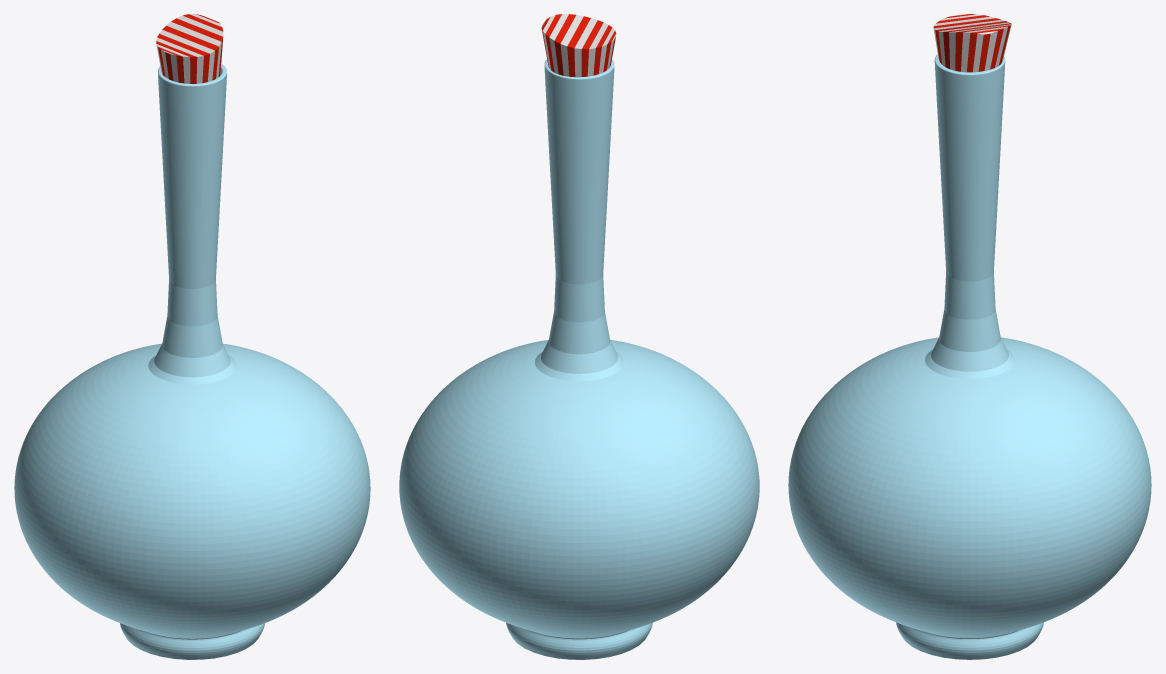
The model's file is sea.fbx.
The picture shows the model from 3 angles, left to right: view 1: azimuth 30°, elevation 25°; view 2: azimuth 150°, elevation 25°; view 3: azimuth 270°, elevation 25°; orthographic projection.
Parts seen in each view (by area): view 1: Sphere; view 2: Sphere; view 3: Sphere.
Part boxes in pixels (box(x1,y1,x2,y2)): Sphere: box(14, 14, 370, 659); Sphere: box(399, 14, 759, 659); Sphere: box(788, 14, 1151, 659).
Size of the model in its own units: 318 by 593 by 318.
